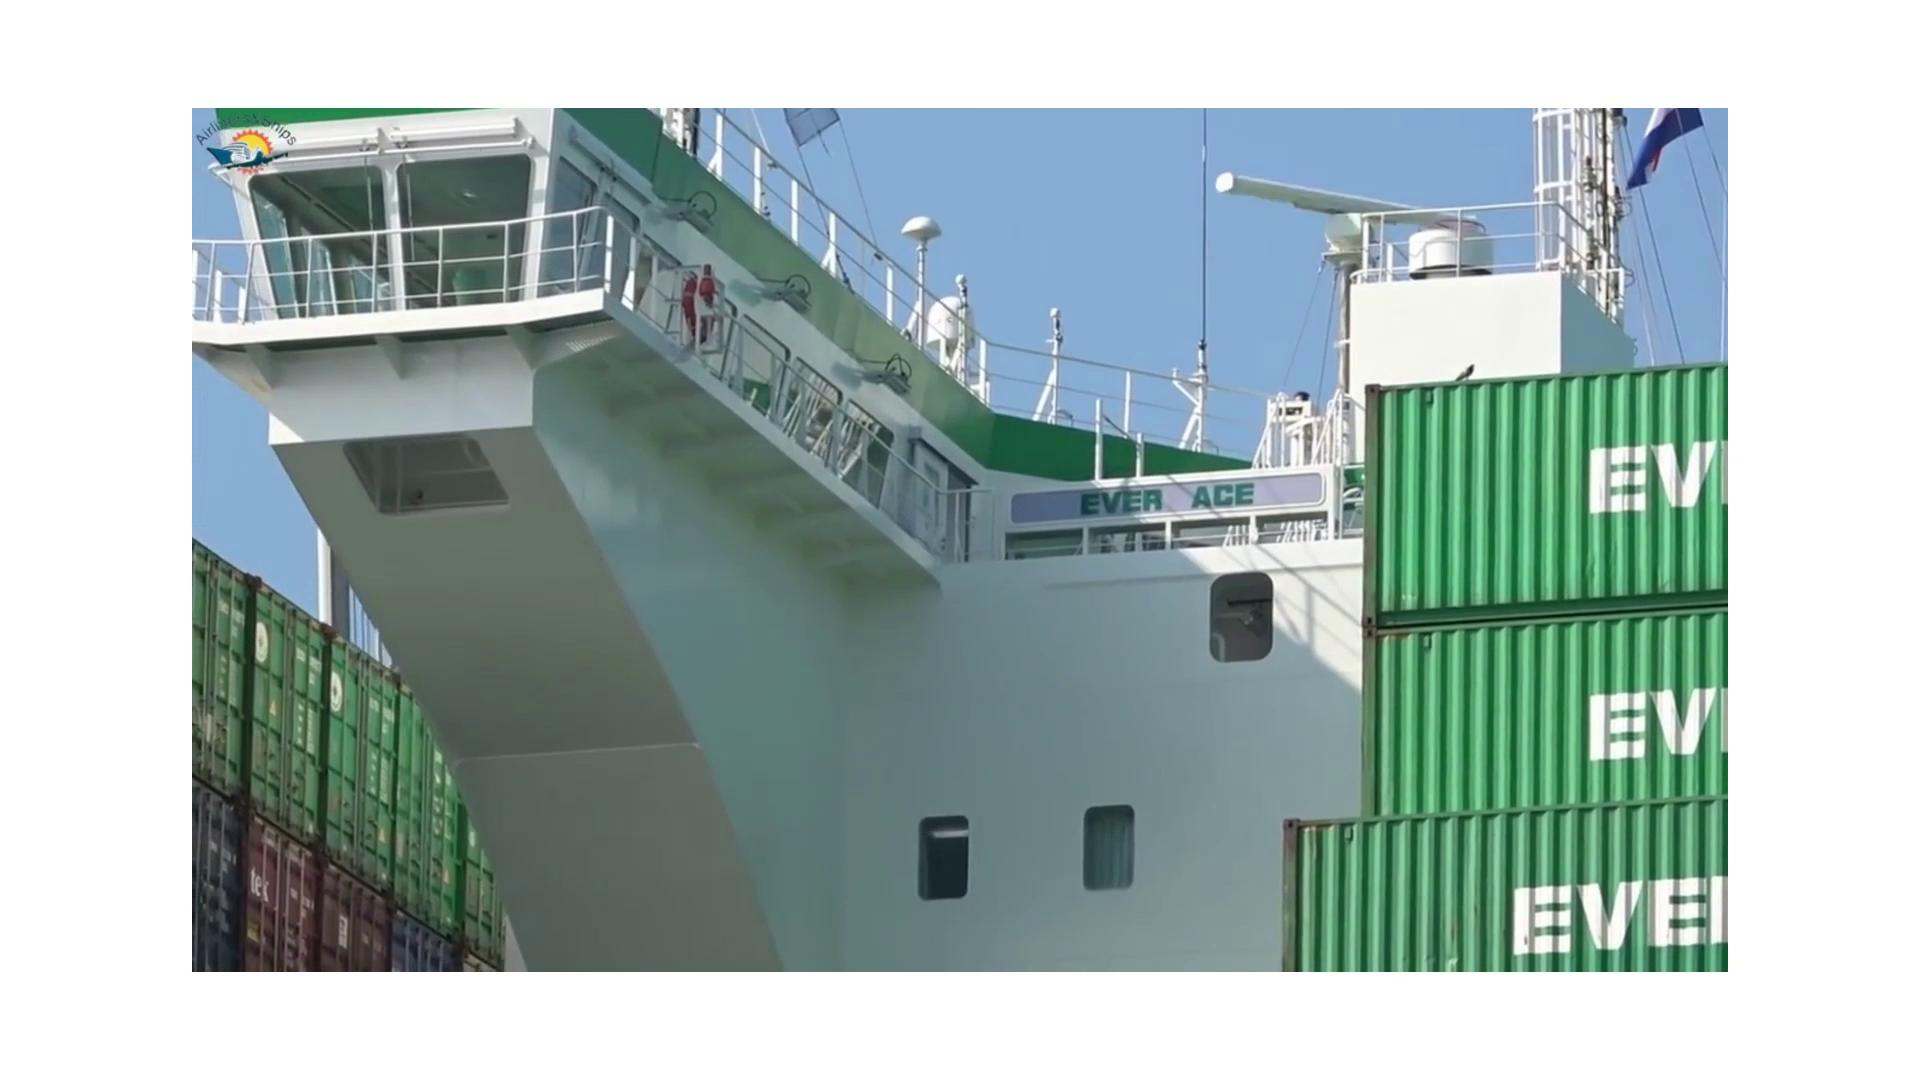OCR: (1042, 450, 1274, 530)
